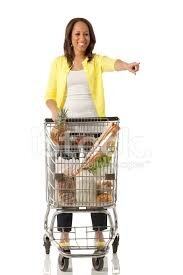with_basket: (40, 113, 122, 269)
without_mask: (66, 19, 92, 54)
